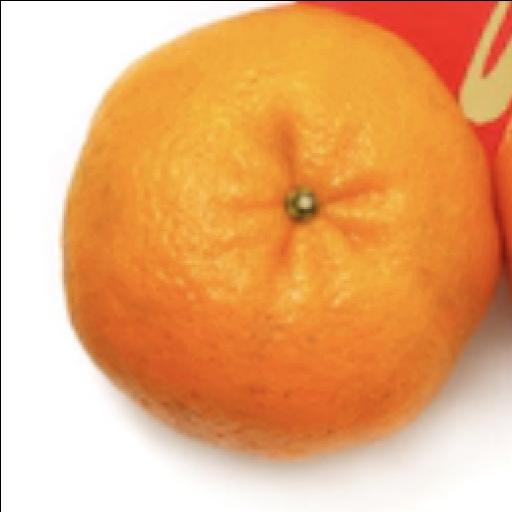orange: (65, 7, 501, 456), (496, 125, 511, 280)
